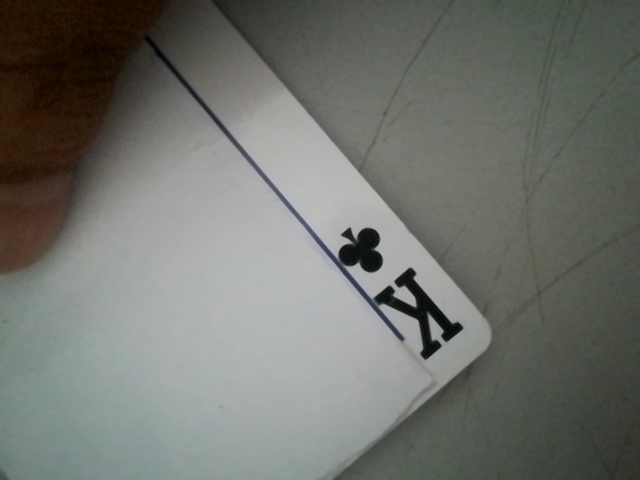mh k: (320, 213, 474, 371)
